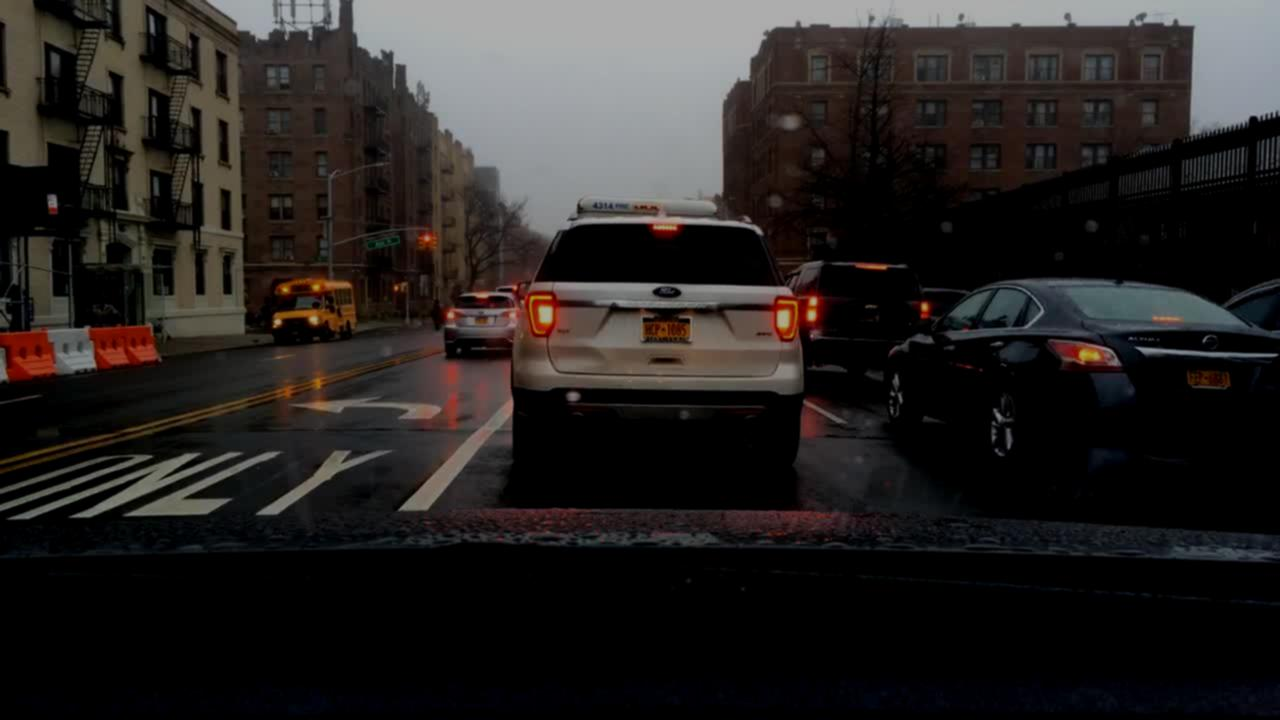Nissan: (1200, 332, 1224, 352)
chevrolet: (864, 302, 881, 313)
ford: (647, 280, 692, 300)
